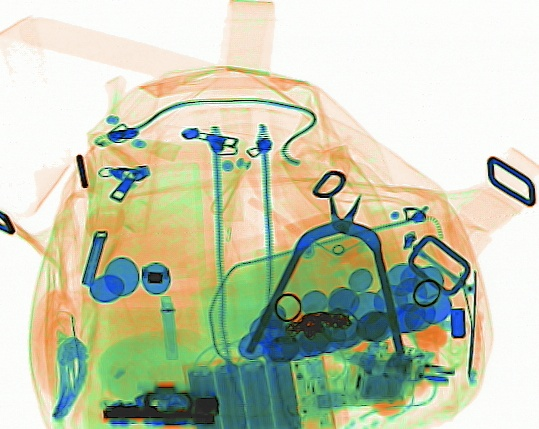powerbank: (174, 341, 339, 427)
scissors: (241, 189, 405, 364)
